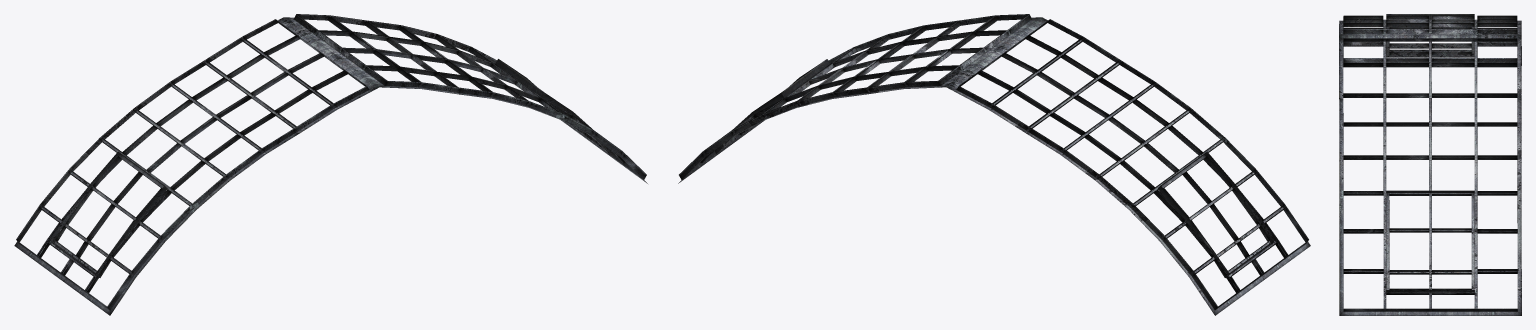
File: Windows_Medical_03.obj
3 renders of one model, left to right at view 1: azimuth 30°, elevation 25°; view 2: azimuth 150°, elevation 25°; view 3: azimuth 270°, elevation 25°, orthographic. The views are drawn at different scales.
Parts seen in each view (by area): view 1: ARCH_Windows_Medical_03; view 2: ARCH_Windows_Medical_03; view 3: ARCH_Windows_Medical_03.
Boxes of the visible parts, x1,y1,x2,y2 form: ARCH_Windows_Medical_03: (14, 14, 647, 315); ARCH_Windows_Medical_03: (678, 14, 1310, 315); ARCH_Windows_Medical_03: (1339, 14, 1521, 315).
Bounding box in the file's own units: 936 × 274 × 288.
1 material, 1 textured.
